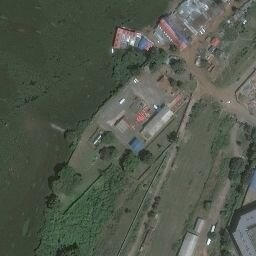tree: (118, 147, 137, 171), (143, 47, 168, 61), (170, 58, 185, 75), (99, 146, 117, 160), (62, 127, 78, 142), (227, 156, 244, 170), (137, 149, 153, 161), (46, 197, 58, 209), (102, 131, 113, 144), (167, 131, 179, 142), (226, 170, 239, 180), (150, 59, 160, 70), (207, 232, 217, 239), (147, 211, 156, 218), (152, 203, 159, 209), (154, 196, 161, 202), (176, 80, 182, 86), (170, 79, 175, 86)
